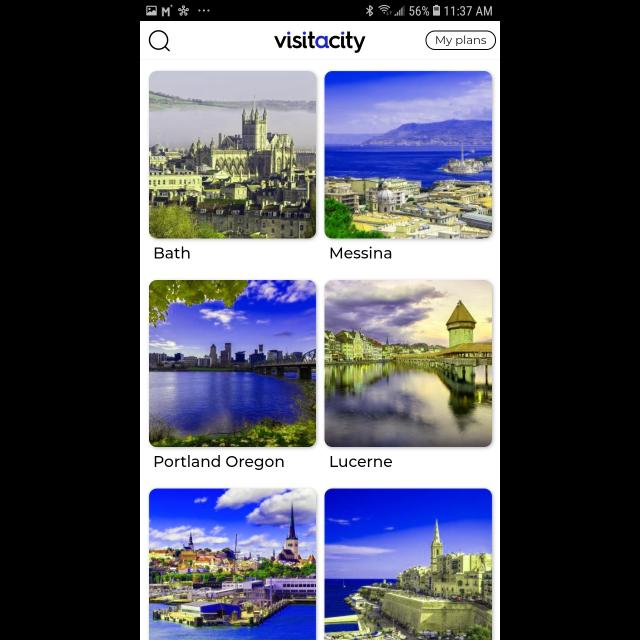icon: (150, 30, 170, 51)
image: (324, 280, 492, 448), (324, 71, 492, 239), (150, 280, 316, 448), (150, 72, 316, 238), (324, 488, 492, 640), (150, 488, 316, 640), (274, 31, 366, 53)
text: (154, 456, 284, 470), (331, 456, 392, 468), (331, 247, 392, 259), (154, 247, 190, 259)
textbutton: (426, 30, 496, 50)
uppertaskbar: (140, 1, 500, 22)
